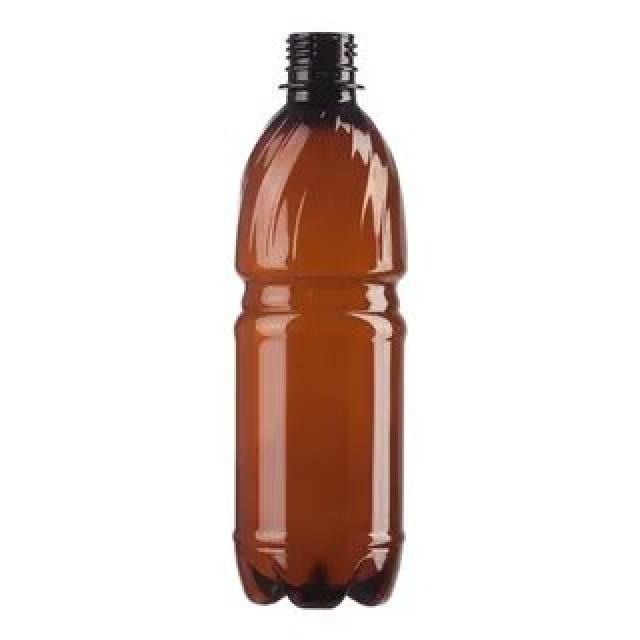brown: (232, 29, 405, 608)
